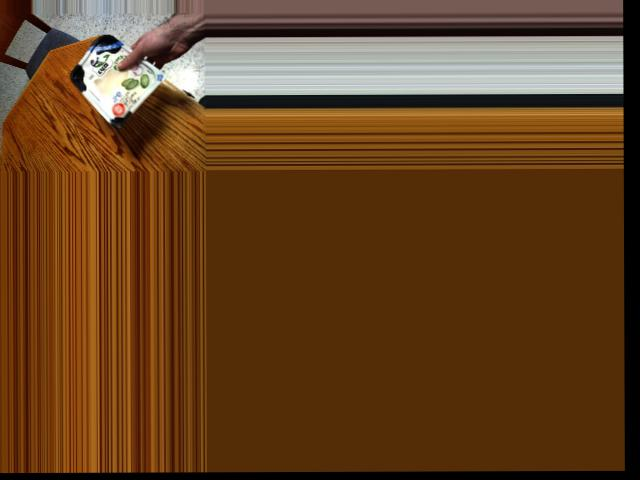cheese: (81, 39, 136, 119)
